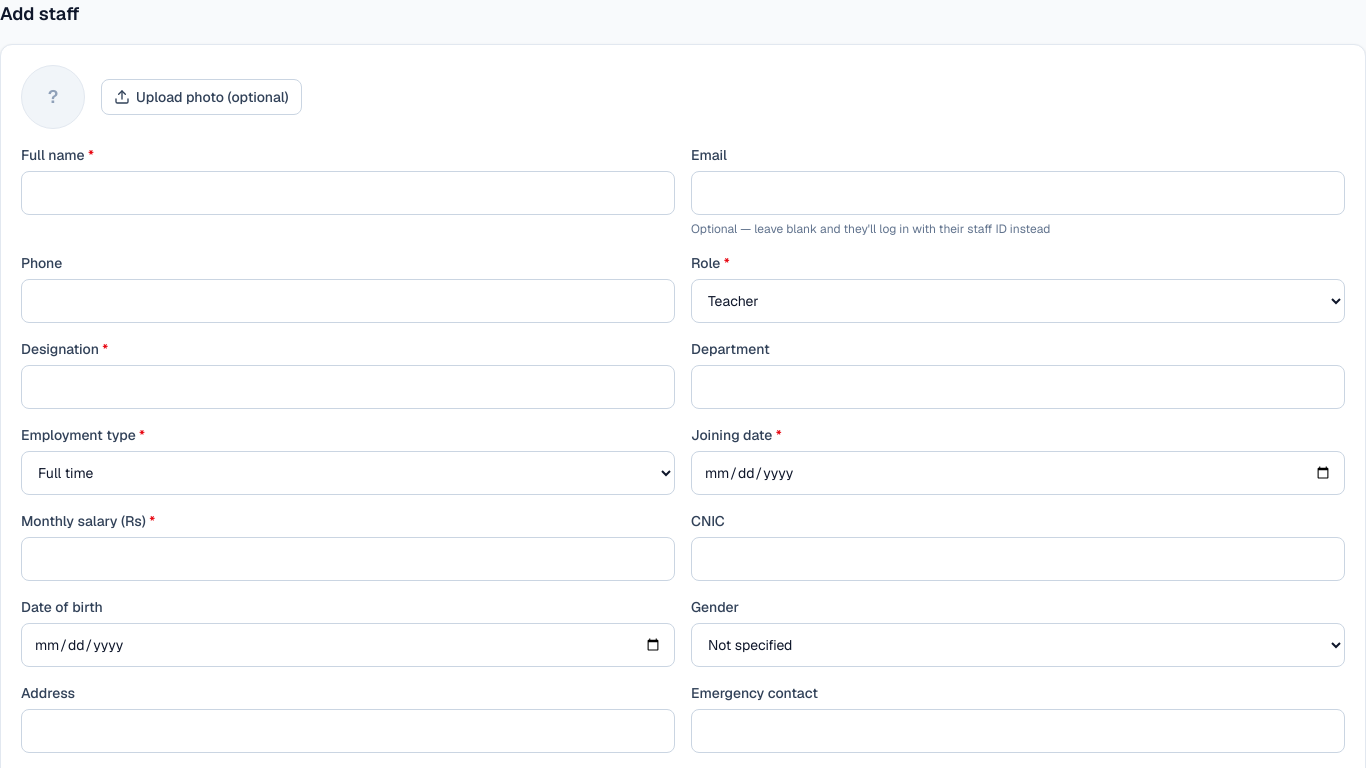
it: NewStaffPage › creates a staff member with no photo (baseline — the new photo field is optional and doesn't block submission)
Check: the button "Upload photo (optional)" is shown, box [101,79,302,115]
Type "Bilal Ahmed" into the field labelled "Full name *" at coordinates (348, 193), box [21,171,675,215]
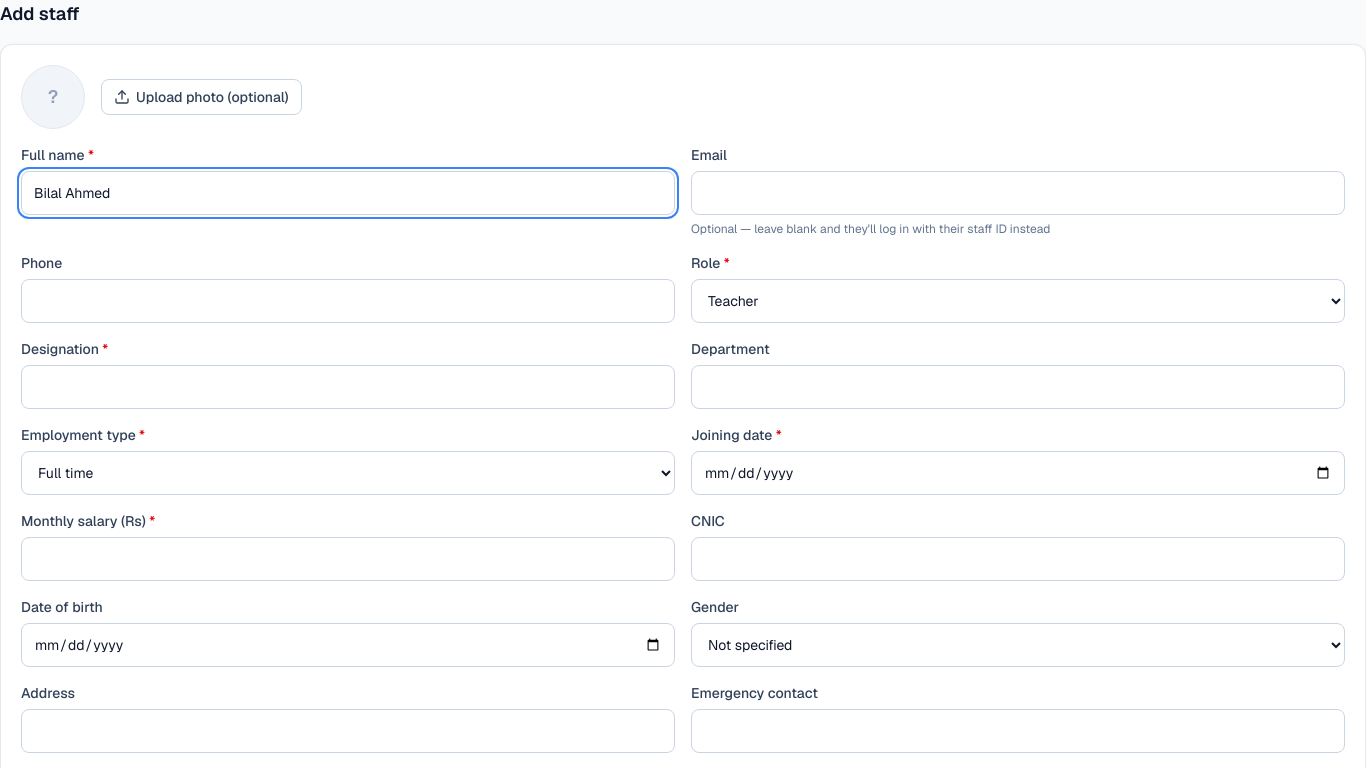
Type "bilal@test-school.test" into the field labelled "Email" at coordinates (1018, 193), box [691,171,1345,215]
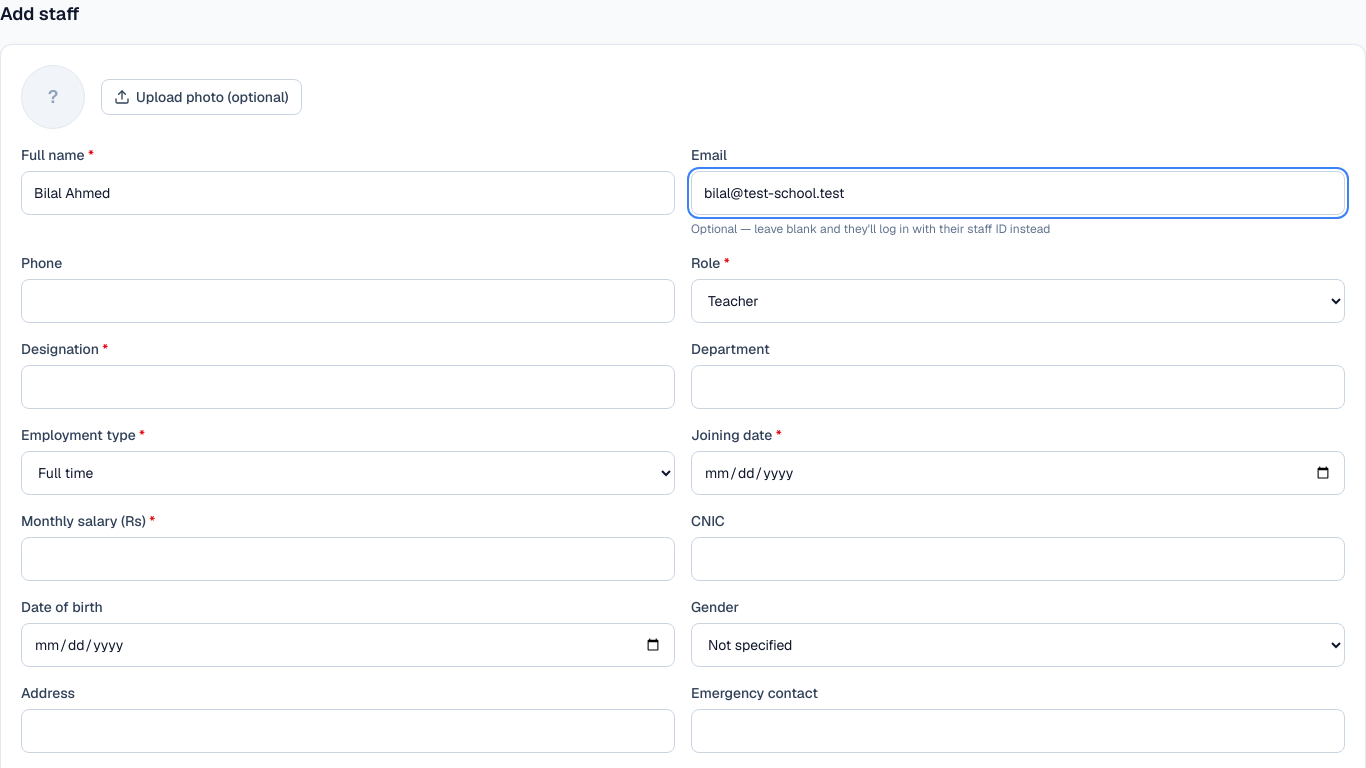
Type "Senior Teacher" into the field labelled "Designation *" at coordinates (348, 387), box [21,365,675,409]
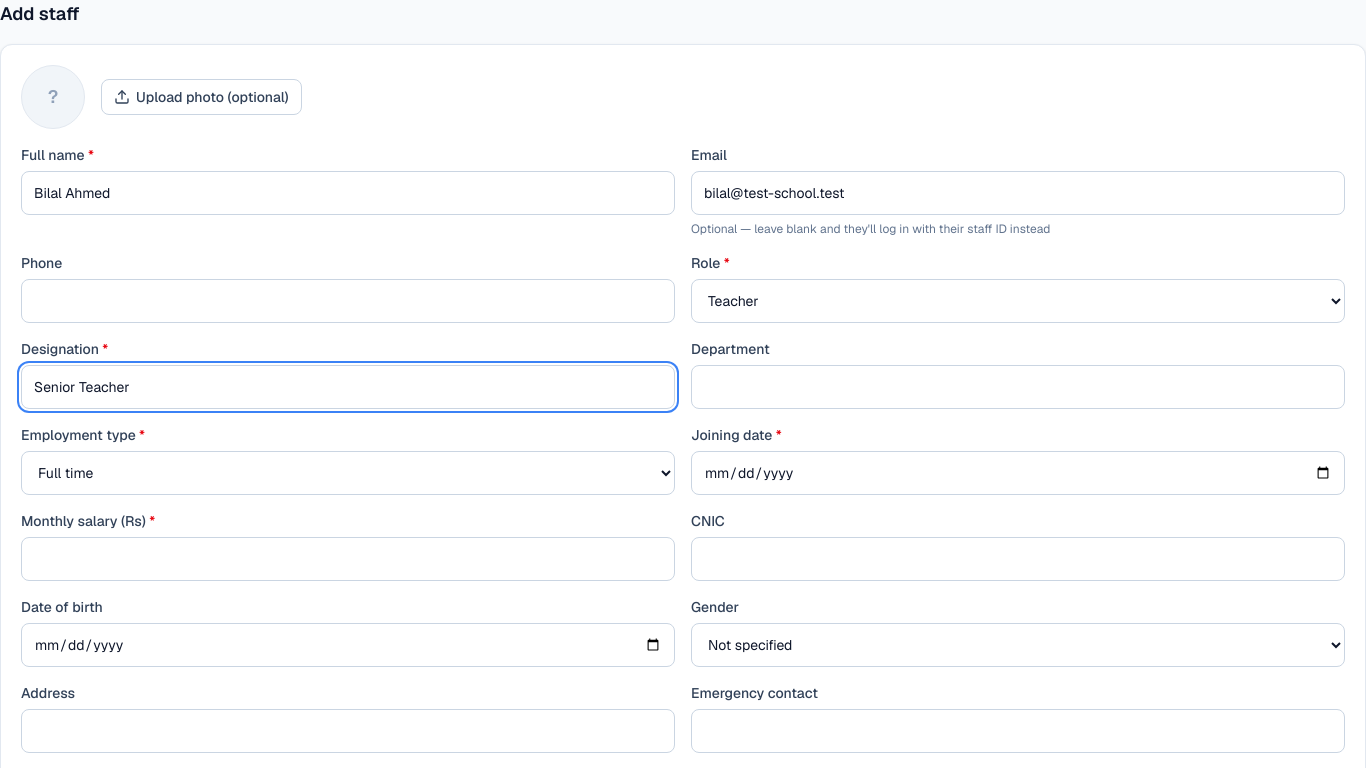
Type "2026-01-15" into the date field labelled "Joining date *" at coordinates (1018, 473), box [691,451,1345,495]
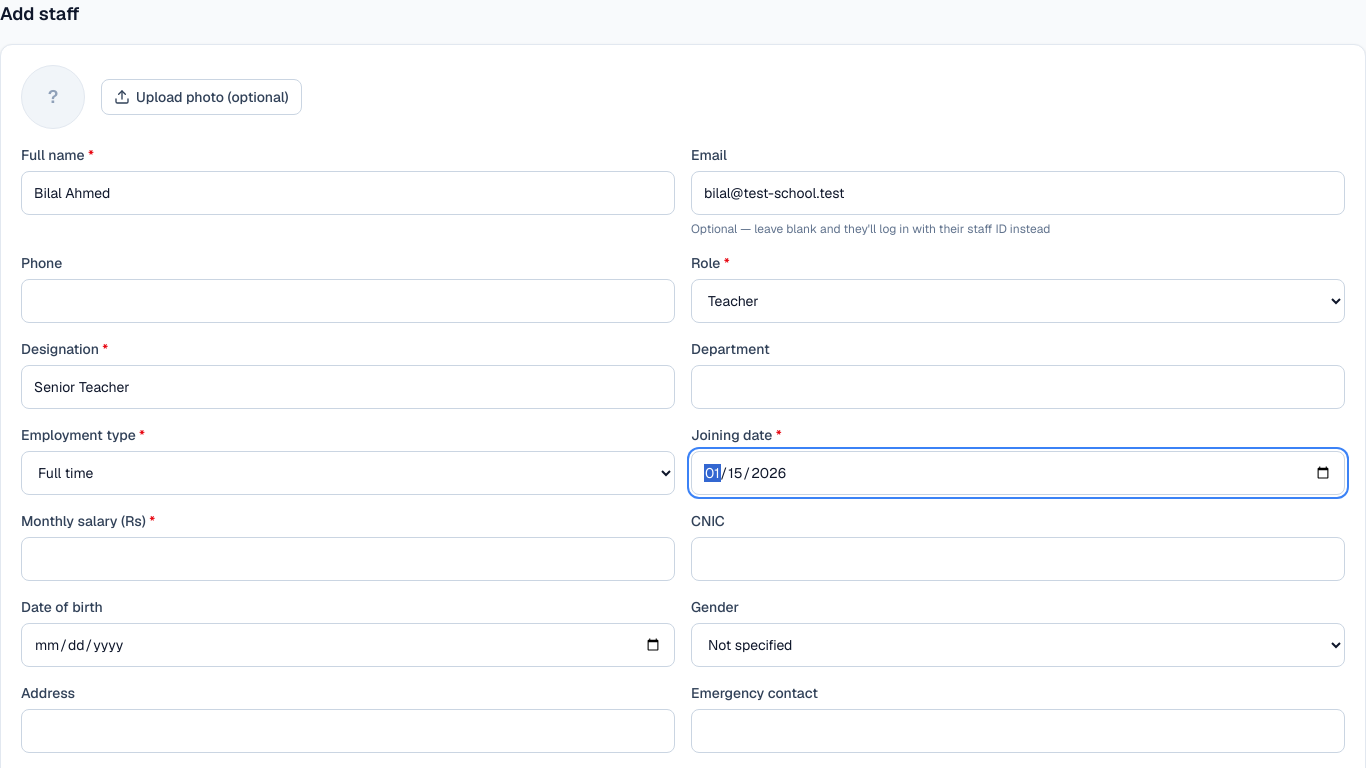
Type "60000" into the number field labelled "Monthly salary (Rs) *" at coordinates (348, 559), box [21,537,675,581]
(page scrolled)
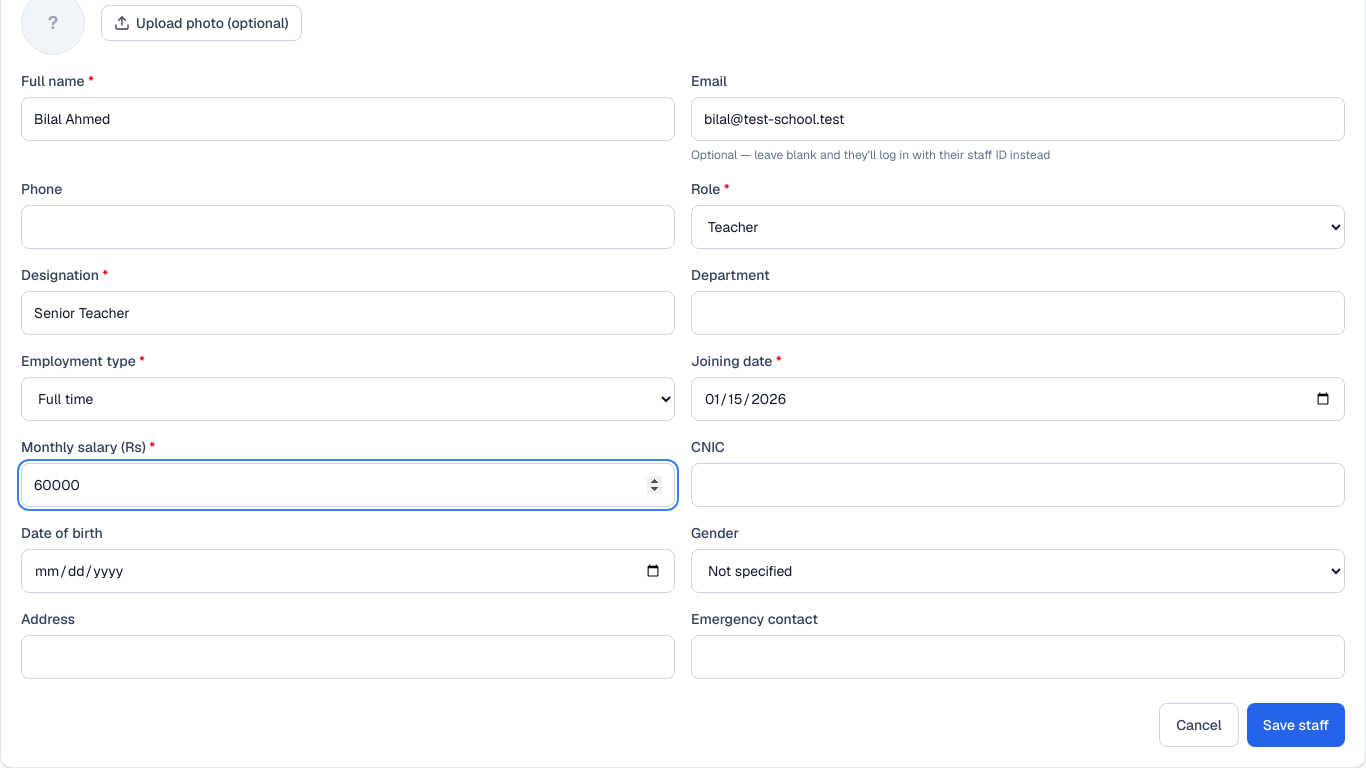
Click the button "Save staff" at coordinates (1296, 725), box [1247,703,1345,747]
(page scrolled)
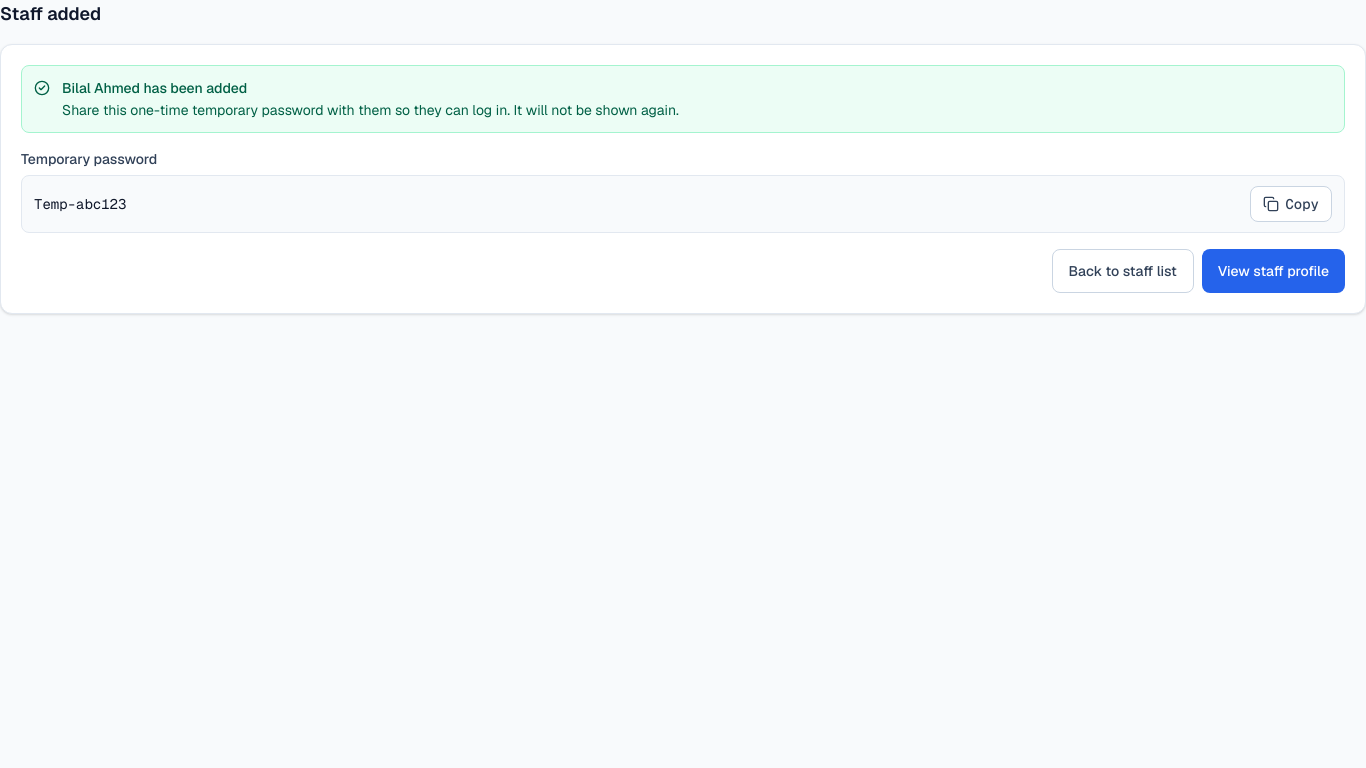
Check: the text "Bilal Ahmed has been added" is shown, box [62,79,247,97]
